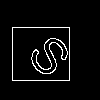S: (25, 25, 81, 81)
